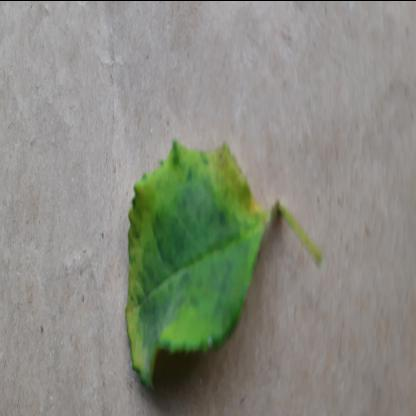black-spot: (124, 132, 268, 388)
